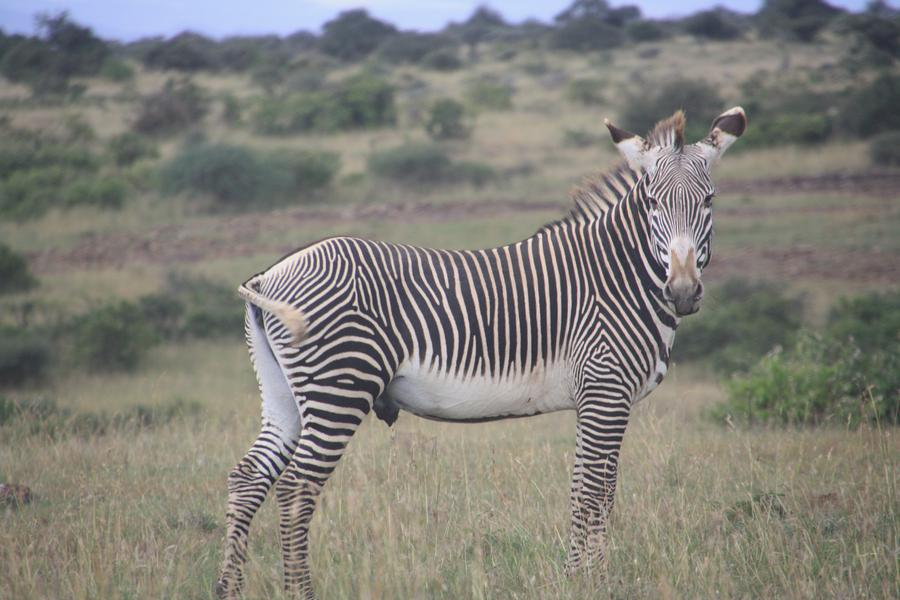zebra_grevys: (237, 232, 641, 402)
